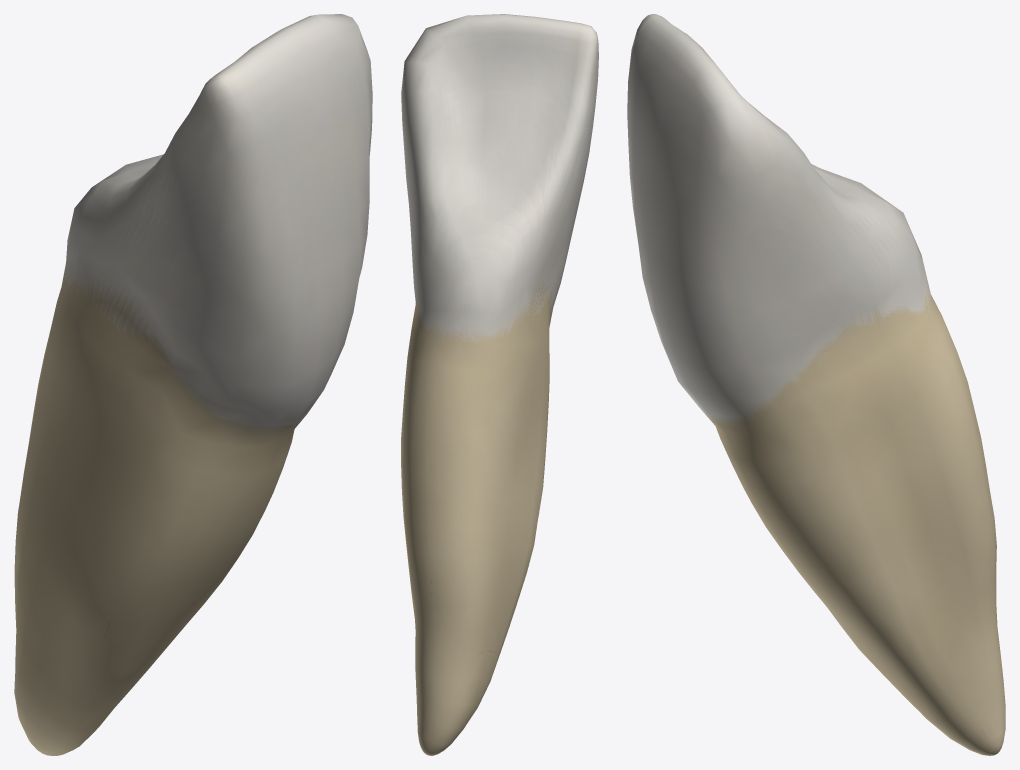
Rendered from tooth-32.glb.
3 renders of one model, left to right at view 1: azimuth 30°, elevation 25°; view 2: azimuth 150°, elevation 25°; view 3: azimuth 270°, elevation 25°, orthographic. The views are drawn at different scales.
Parts seen in each view (by area): view 1: LL2seam_2:ZBrushPolyMesh3D_Mandible_l2_0; view 2: LL2seam_2:ZBrushPolyMesh3D_Mandible_l2_0; view 3: LL2seam_2:ZBrushPolyMesh3D_Mandible_l2_0.
Boxes of the visible parts, left/top/right/bottom form: LL2seam_2:ZBrushPolyMesh3D_Mandible_l2_0: left=14, top=14, right=372, bottom=755; LL2seam_2:ZBrushPolyMesh3D_Mandible_l2_0: left=401, top=14, right=598, bottom=755; LL2seam_2:ZBrushPolyMesh3D_Mandible_l2_0: left=627, top=14, right=1005, bottom=755.
Bounding box in the file's own units: 0.1958 × 0.6841 × 0.3166.
Materials: 1 (1 with a texture image).
